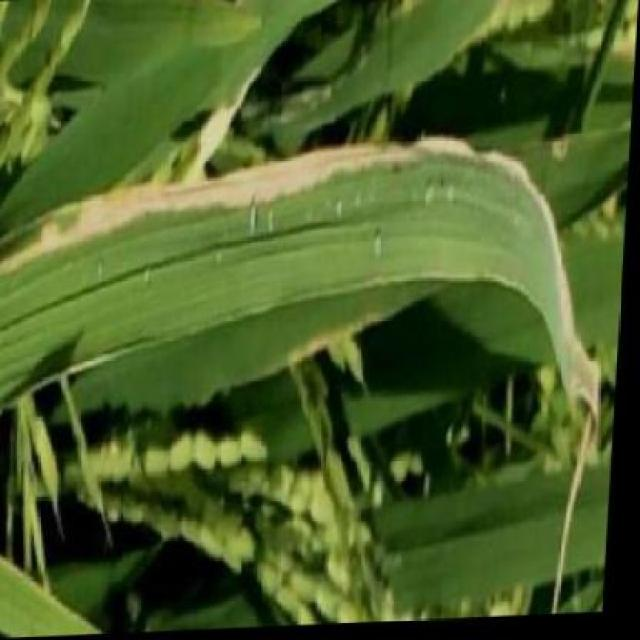Brown_Spot: (0, 137, 489, 329)
